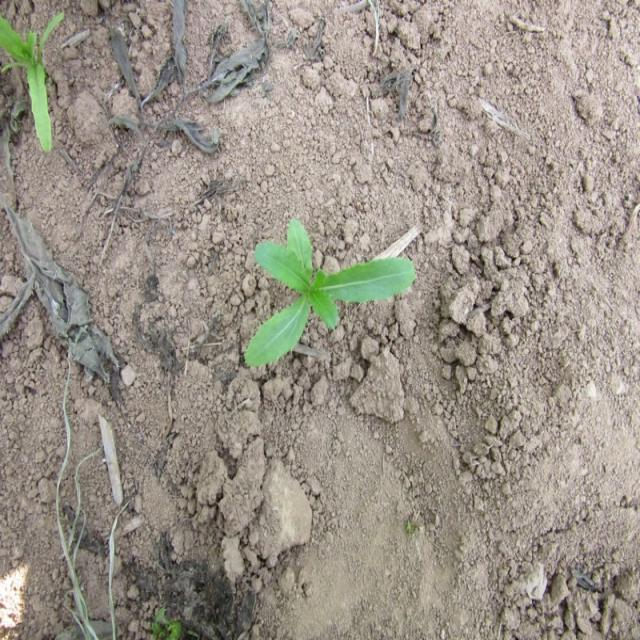cs: (239, 212, 420, 375)
